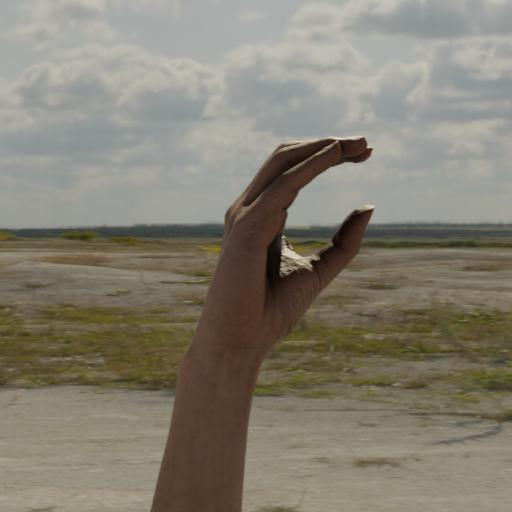C: (200, 118, 402, 354)
